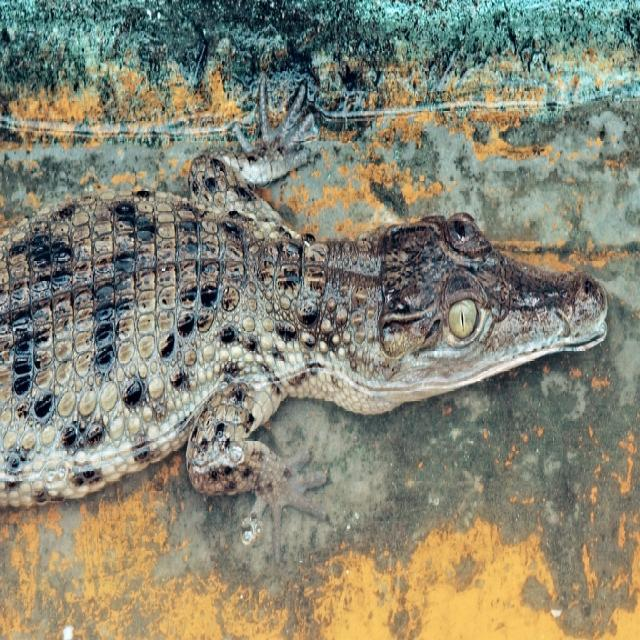crocodile: (0, 68, 639, 566)
